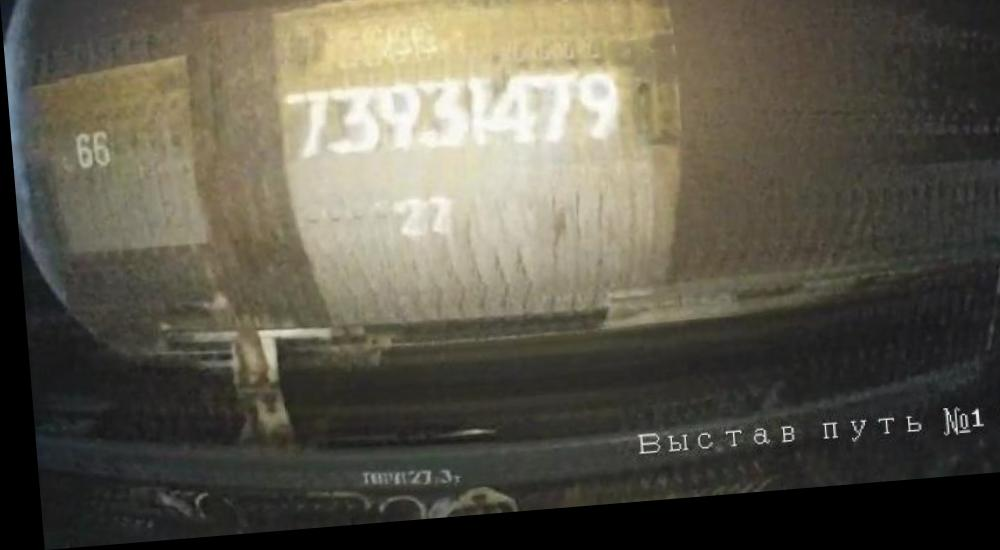Wagon-number: (278, 65, 625, 179)
